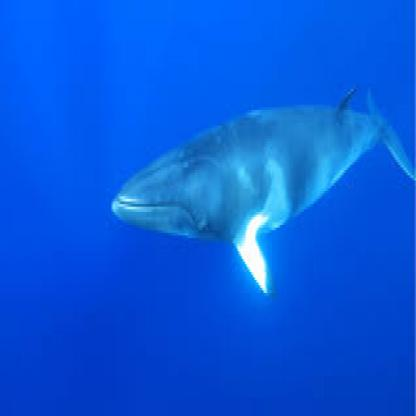blue_whale: (87, 65, 414, 309)
